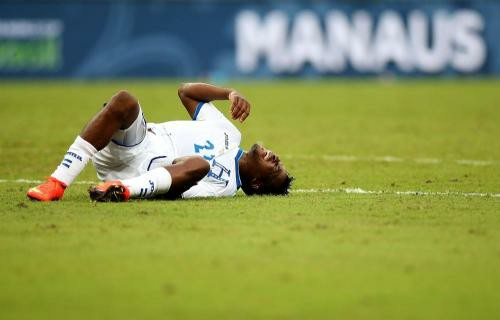fall: (12, 71, 294, 207)
